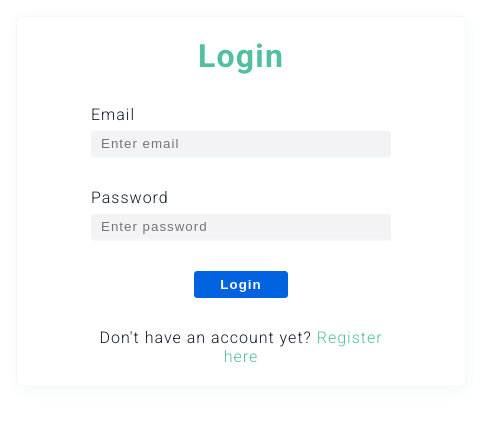
Scenario: login comp › password error should be rendered in case of invalid password
Step 1. Type "1234" into the password field labelled "Password" → coordinates (241, 228), box [91,214,391,241]
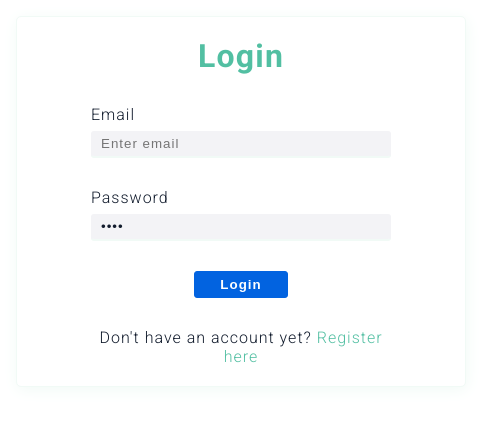
Step 2. Leave the password field labelled "Password", box [91,214,391,241]
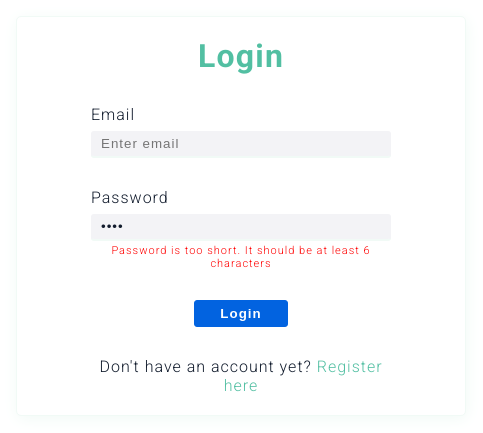
Expected: the text "Password is too short. It should be at least 6 characters" is shown, [91,244,391,270]
